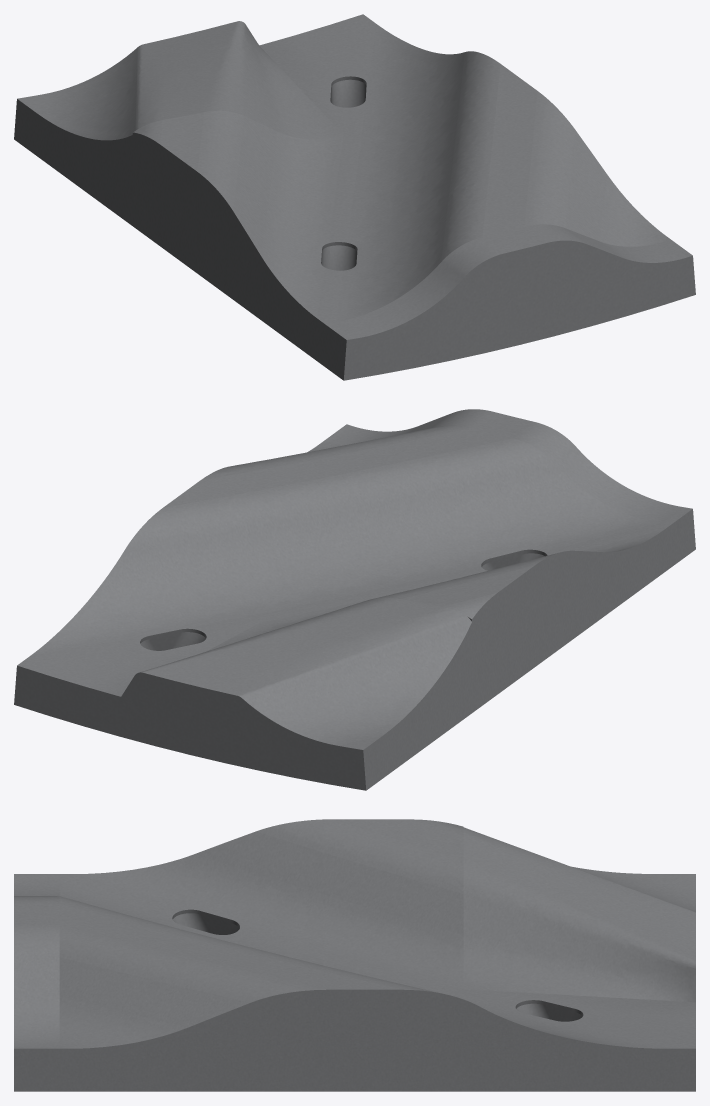
Rendered from thermal-metal-tube-mill-oblique-wave-liner.glb.
3 views of the same model, one above another, from view 1: azimuth 30°, elevation 25°; view 2: azimuth 150°, elevation 25°; view 3: azimuth 270°, elevation 25° (orthographic). The views are drawn at different scales.
Visible parts, largest first — view 1: metal; view 2: metal; view 3: metal.
Part boxes in pixels (x1,y1,x2,y2): metal: (14, 14, 695, 380); metal: (14, 409, 695, 790); metal: (14, 819, 695, 1091).
Size of the model in its own units: 0.3676 by 0.1023 by 0.596.
Materials: 1 (1 with a texture image).
